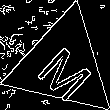M_NE: (29, 31, 96, 99)
